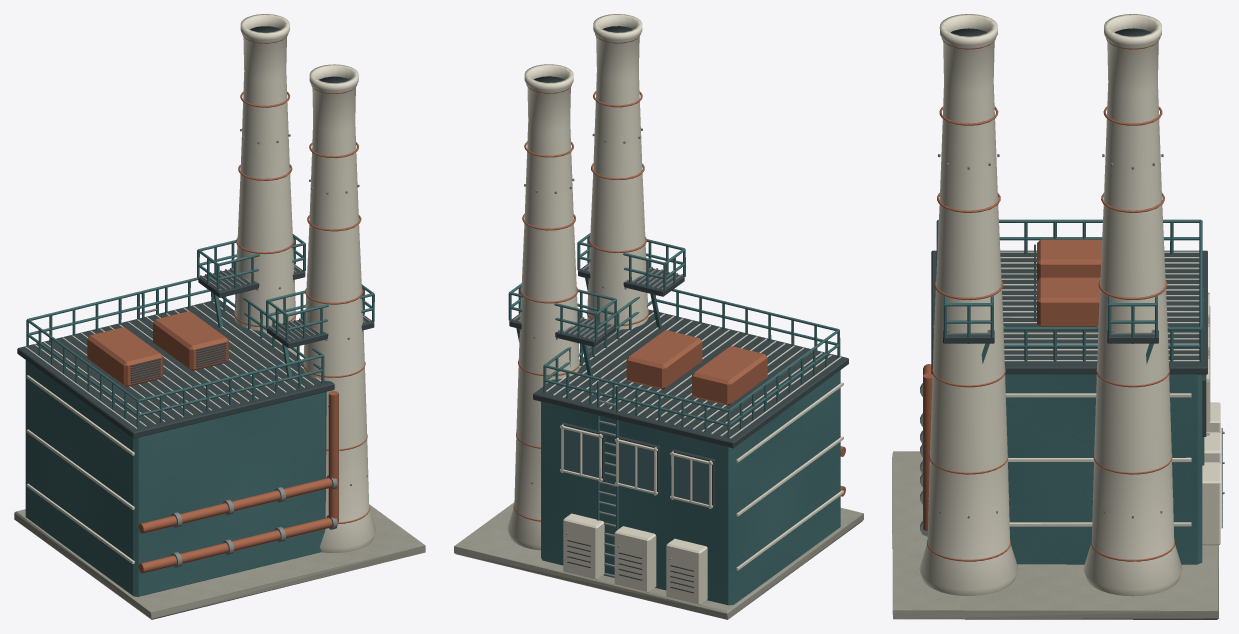
The picture shows the model from 3 angles, left to right: view 1: azimuth 30°, elevation 25°; view 2: azimuth 150°, elevation 25°; view 3: azimuth 270°, elevation 25°; orthographic projection. The views are drawn at different scales.
Visible parts, largest first — view 1: static_assembly_steel_001, static_assembly_ivory_001, static_assembly_dark_001, static_assembly_rust_001, static_assembly_concrete_001, static_assembly_bolt_001; view 2: static_assembly_ivory_001, static_assembly_steel_001, static_assembly_dark_001, static_assembly_rust_001, static_assembly_concrete_001, static_assembly_glass_001, static_assembly_bolt_001; view 3: static_assembly_ivory_001, static_assembly_steel_001, static_assembly_concrete_001, static_assembly_dark_001, static_assembly_rust_001, static_assembly_bolt_001.
Boxes of the visible parts, left/top/right/bottom form: static_assembly_steel_001: left=25, top=234, right=374, bottom=596; static_assembly_ivory_001: left=25, top=14, right=375, bottom=563; static_assembly_dark_001: left=17, top=26, right=374, bottom=438; static_assembly_rust_001: left=87, top=34, right=369, bottom=573; static_assembly_concrete_001: left=14, top=504, right=425, bottom=619; static_assembly_bolt_001: left=140, top=129, right=370, bottom=567; static_assembly_ivory_001: left=507, top=14, right=843, bottom=605; static_assembly_steel_001: left=508, top=233, right=840, bottom=605; static_assembly_dark_001: left=509, top=26, right=848, bottom=593; static_assembly_rust_001: left=513, top=34, right=845, bottom=521; static_assembly_concrete_001: left=454, top=502, right=863, bottom=619; static_assembly_glass_001: left=563, top=429, right=708, bottom=504; static_assembly_bolt_001: left=513, top=128, right=682, bottom=577; static_assembly_ivory_001: left=919, top=14, right=1220, bottom=596; static_assembly_steel_001: left=936, top=219, right=1204, bottom=564; static_assembly_concrete_001: left=892, top=451, right=1218, bottom=619; static_assembly_dark_001: left=931, top=28, right=1222, bottom=528; static_assembly_rust_001: left=923, top=38, right=1174, bottom=561; static_assembly_bolt_001: left=920, top=154, right=1224, bottom=536.
Size of the model in its own units: 8 by 13 by 7.
Materials: 7 (2 with a texture image).
